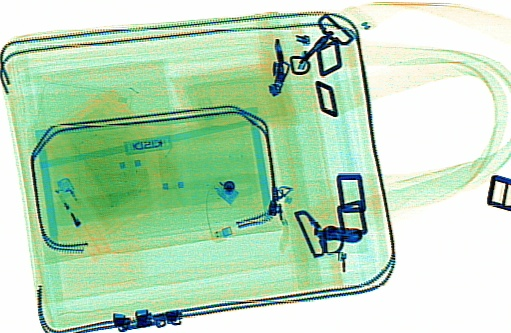lighter: (54, 176, 111, 263)
